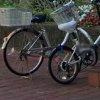bicycles: (2, 0, 97, 77), (48, 0, 100, 85)
